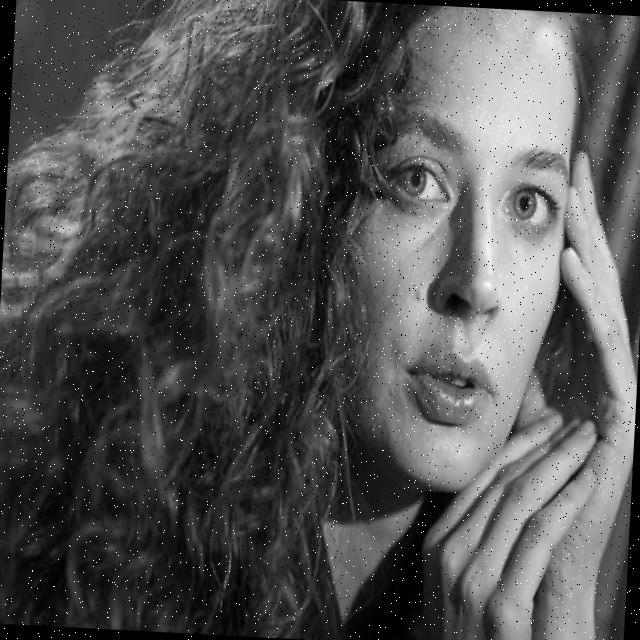Fear: (324, 1, 580, 498)
